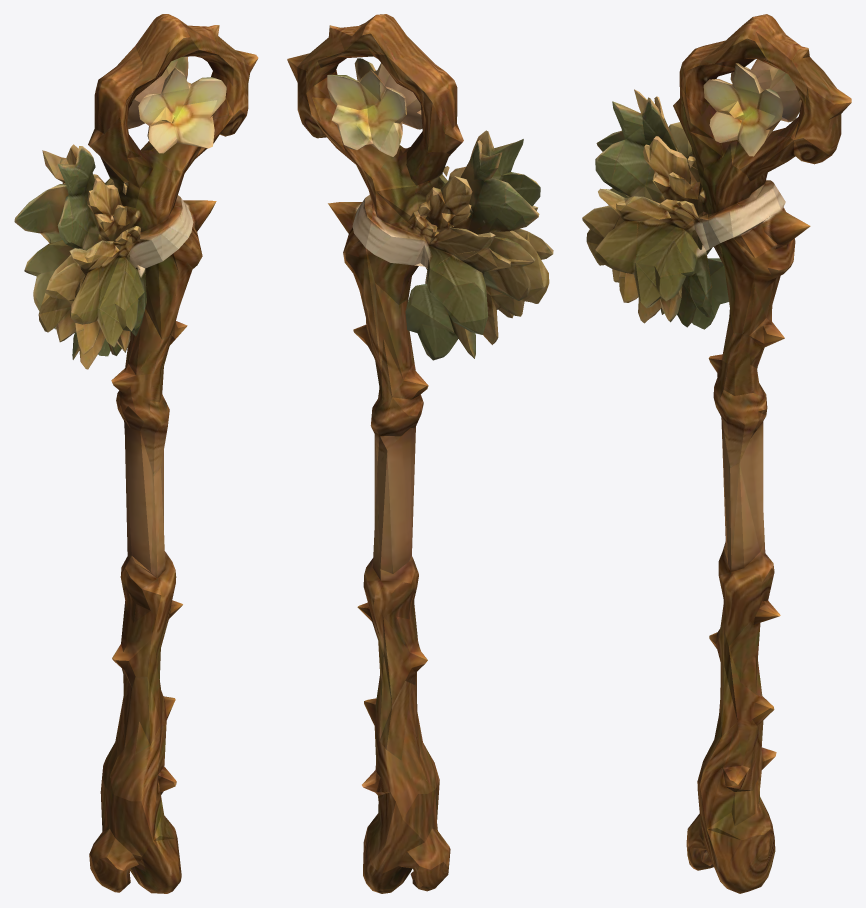
The model's file is herbalist-staff.glb.
3 renders of one model, left to right at view 1: azimuth 30°, elevation 25°; view 2: azimuth 150°, elevation 25°; view 3: azimuth 330°, elevation 25°, orthographic.
Parts seen in each view (by area): view 1: output_unwrapped; view 2: output_unwrapped; view 3: output_unwrapped.
Part boxes in pixels (left/top/right/bottom): output_unwrapped: left=14, top=14, right=258, bottom=893; output_unwrapped: left=287, top=14, right=553, bottom=893; output_unwrapped: left=582, top=14, right=851, bottom=893.
Bounding box in the file's own units: 0.5658 × 1.9 × 0.2368.
Materials: 1 (1 with a texture image).
